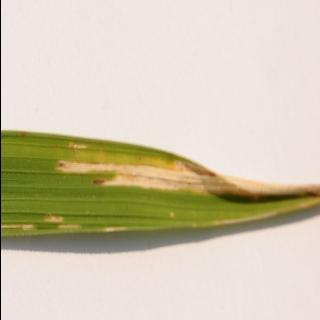Hawar-Daun: (0, 124, 316, 230)
